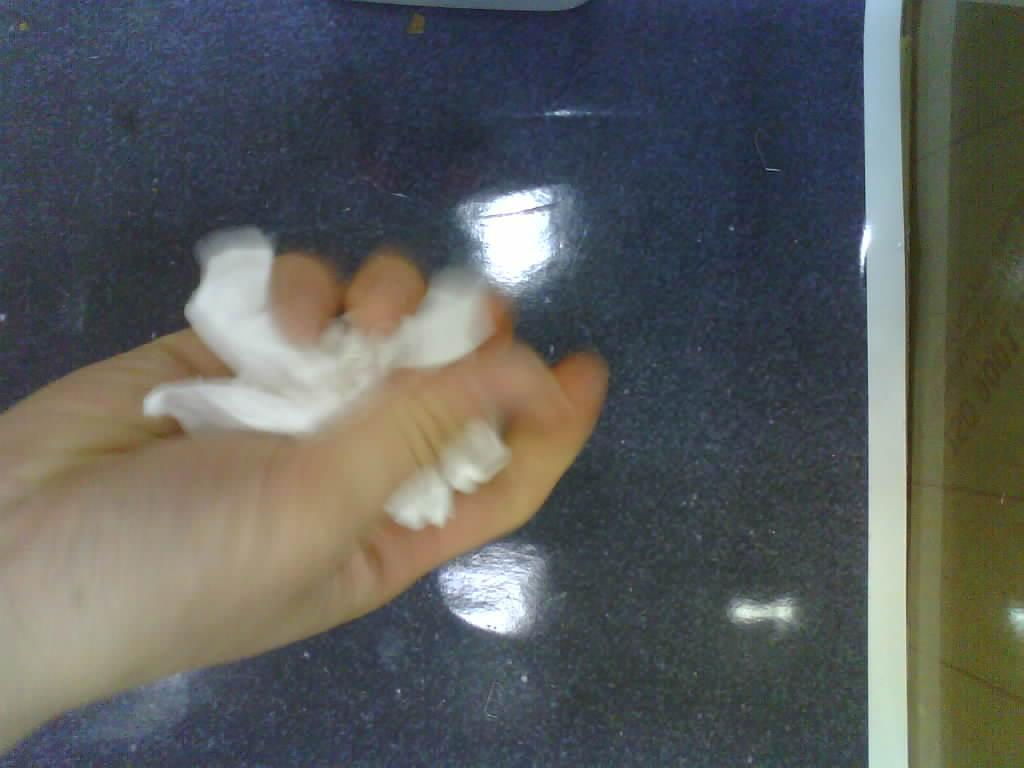paper: (143, 229, 554, 527)
